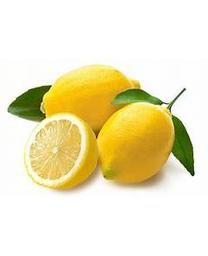lemon: (46, 63, 143, 133), (99, 102, 173, 186), (27, 112, 99, 191)
